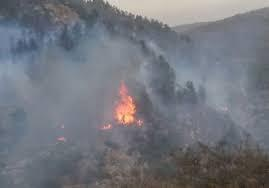fire: (108, 80, 144, 127)
